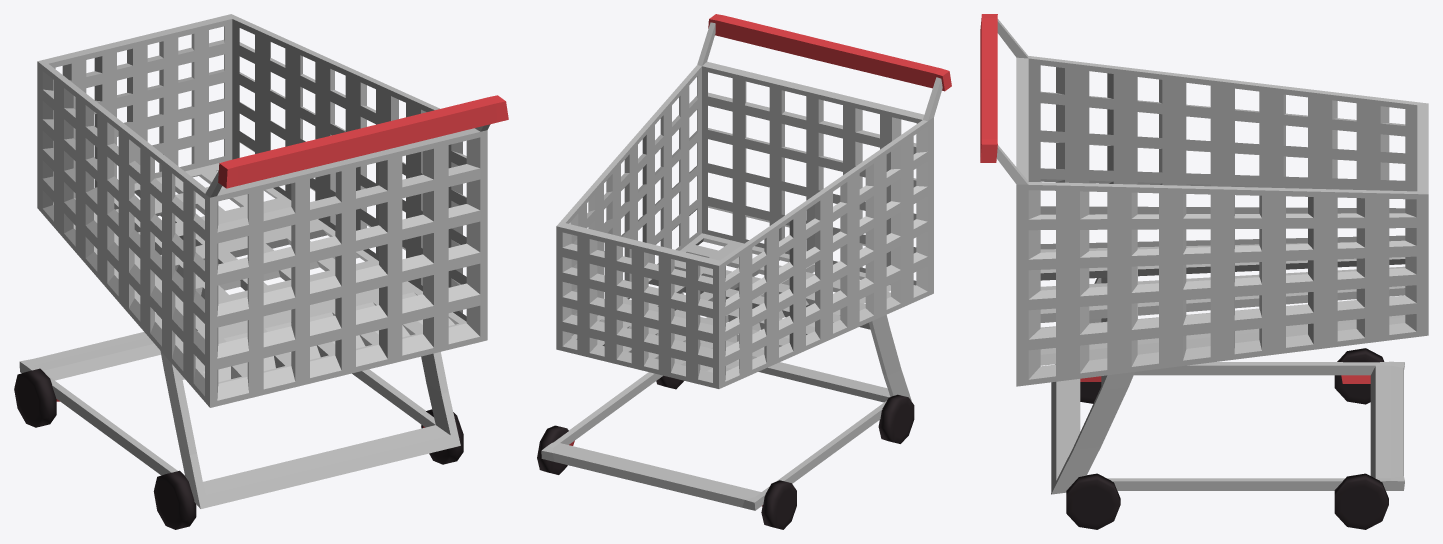
Rendered from Escenario_carrito.fbx.
3 renders of one model, left to right at view 1: azimuth 30°, elevation 25°; view 2: azimuth 150°, elevation 25°; view 3: azimuth 270°, elevation 25°, orthographic. The views are drawn at different scales.
Parts seen in each view (by area): view 1: CARRITO, Cylinder, Cylinder.001, Cylinder.003; view 2: CARRITO, Cylinder.001, Cylinder, Cylinder.002; view 3: CARRITO, Cylinder.002, Cylinder.003, Cylinder.
Part boxes in pixels (left/top/right/bottom): CARRITO: left=19, top=14, right=508, bottom=508; Cylinder: left=14, top=368, right=56, bottom=427; Cylinder.001: left=153, top=470, right=196, bottom=529; Cylinder.003: left=421, top=409, right=463, bottom=464; CARRITO: left=541, top=14, right=951, bottom=510; Cylinder.001: left=878, top=394, right=914, bottom=443; Cylinder: left=761, top=480, right=796, bottom=529; Cylinder.002: left=537, top=425, right=568, bottom=474; CARRITO: left=980, top=14, right=1428, bottom=494; Cylinder.002: left=1334, top=473, right=1388, bottom=529; Cylinder.003: left=1066, top=473, right=1120, bottom=529; Cylinder: left=1334, top=348, right=1384, bottom=404.
Size of the model in its own units: 281 by 381 by 402.
